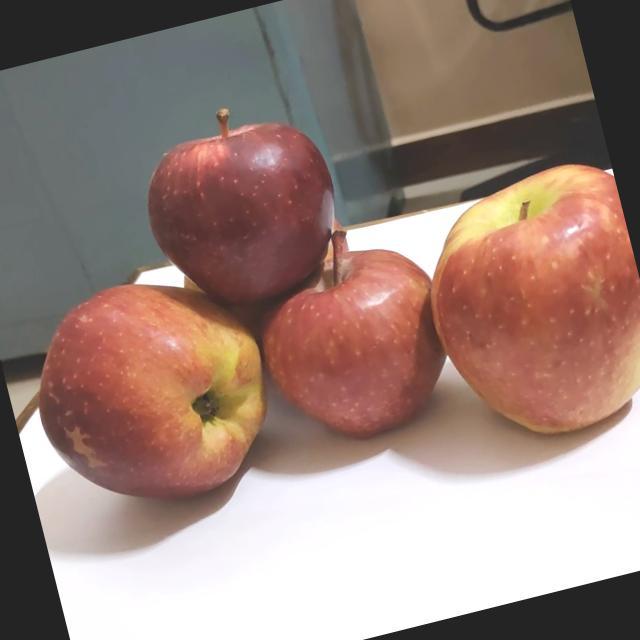apple: (16, 254, 301, 536), (410, 150, 640, 461), (124, 80, 366, 334), (240, 206, 475, 467), (172, 253, 230, 323)
